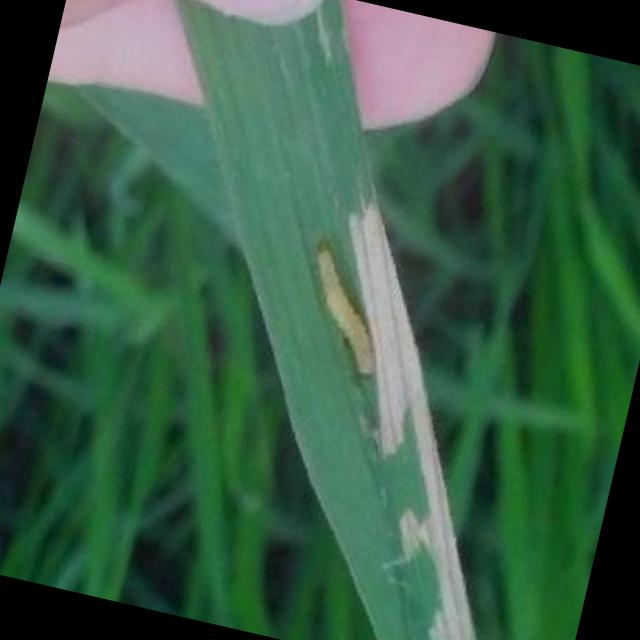leaf-folder: (276, 222, 425, 400)
